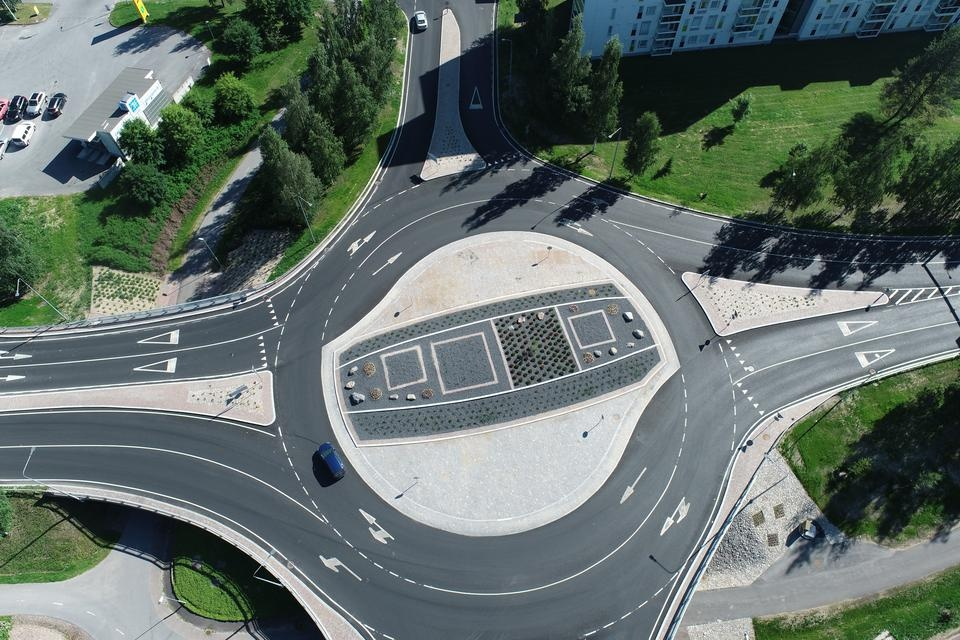roundabout: (258, 154, 779, 640)
